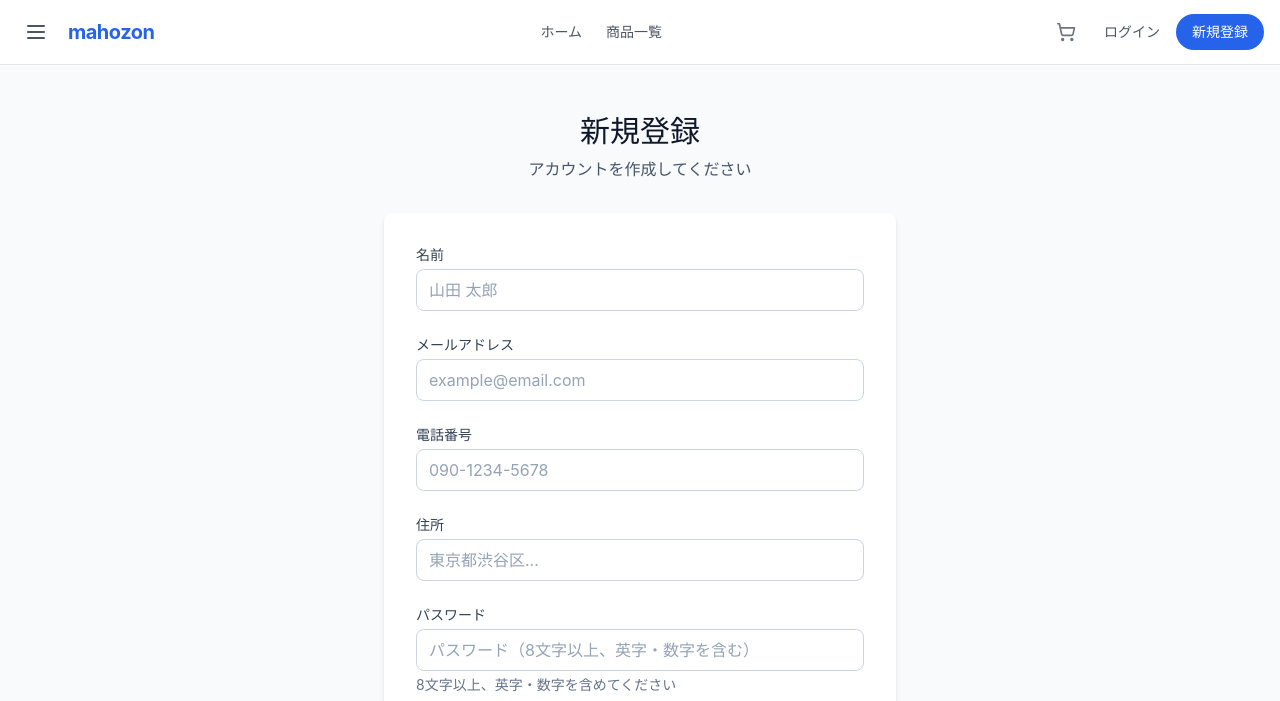
it: 新規登録ページ › 名前が未入力のとき、エラーが表示される
The image size is (1280, 701).
Type "test@example.com" into the field labelled "メールアドレス".
click(640, 380); type("test@example.com")  # box [416, 359, 864, 401]
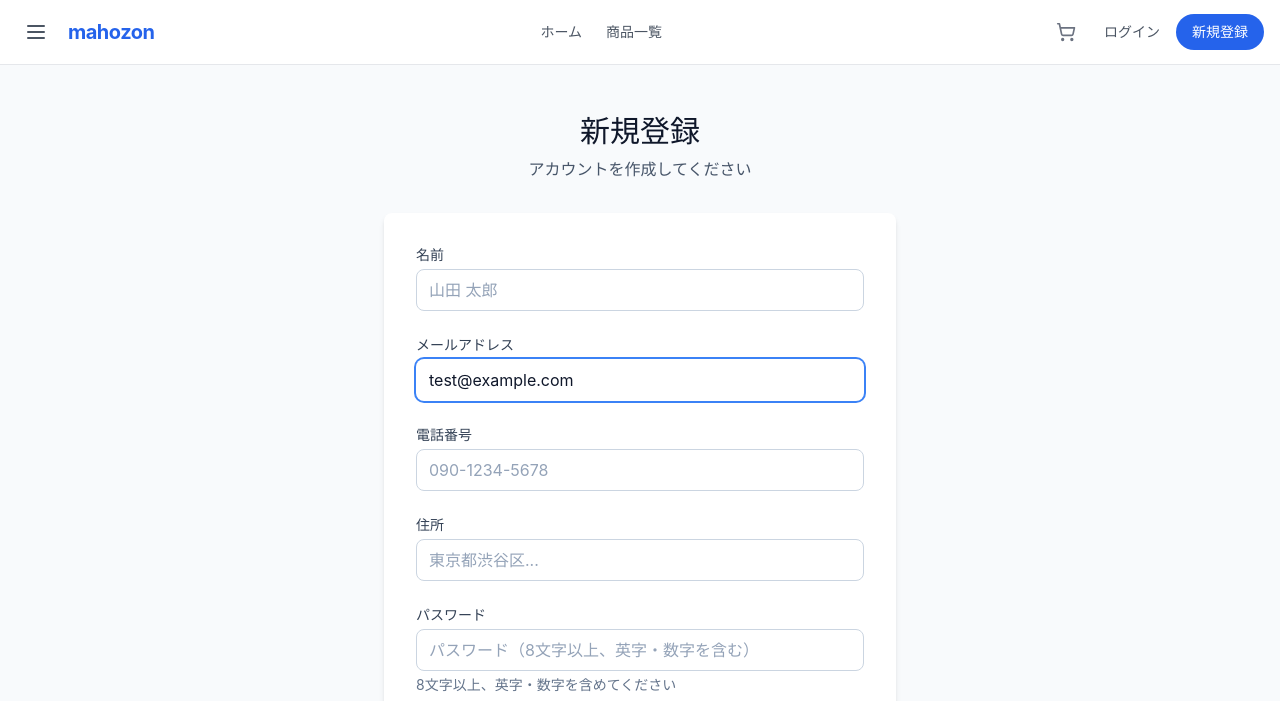
Scroll
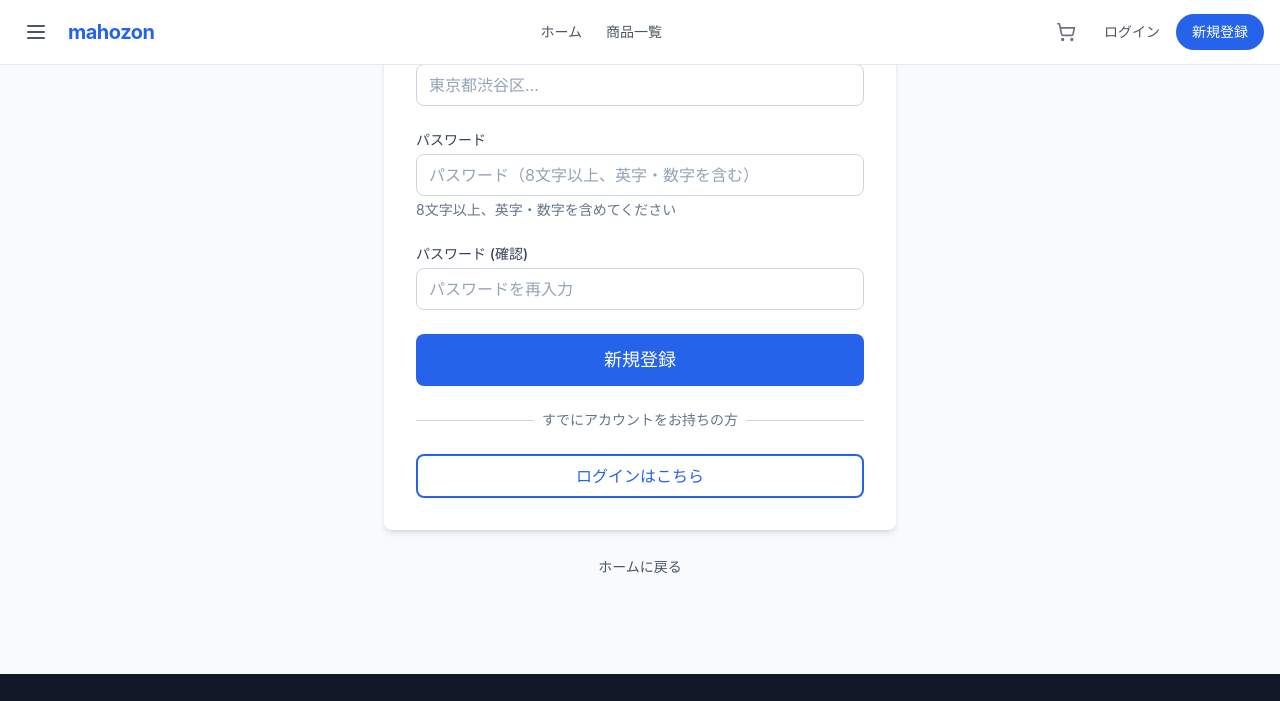
Click the submit button.
click(640, 360)  # box [416, 334, 864, 386]
(page scrolled)
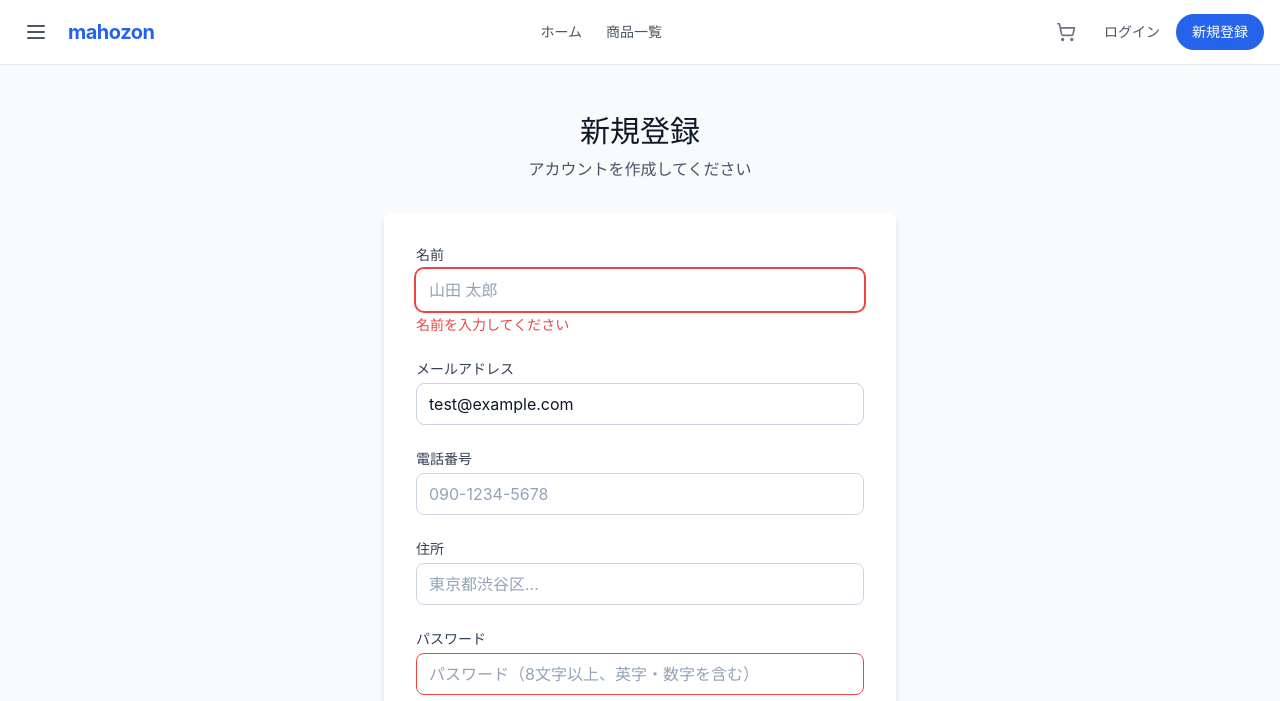
Now the text "名前を入力してください" is shown, box [416, 316, 569, 333]
